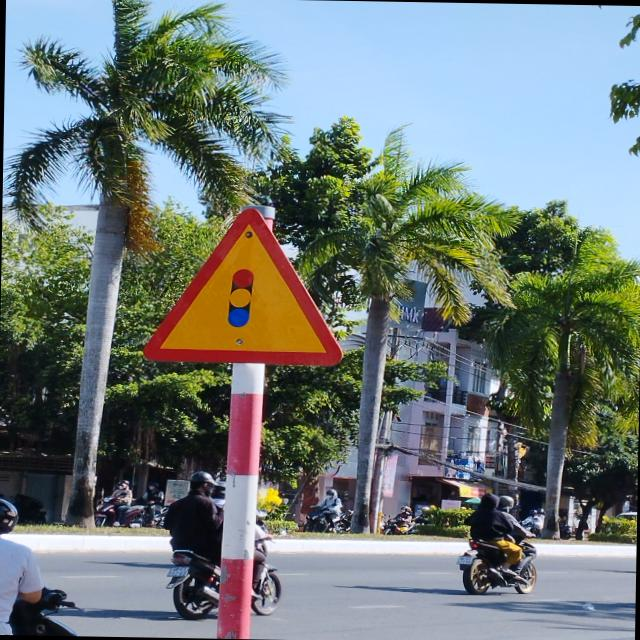Duong_Co_Go_Giam_Toc: (143, 205, 344, 365)
